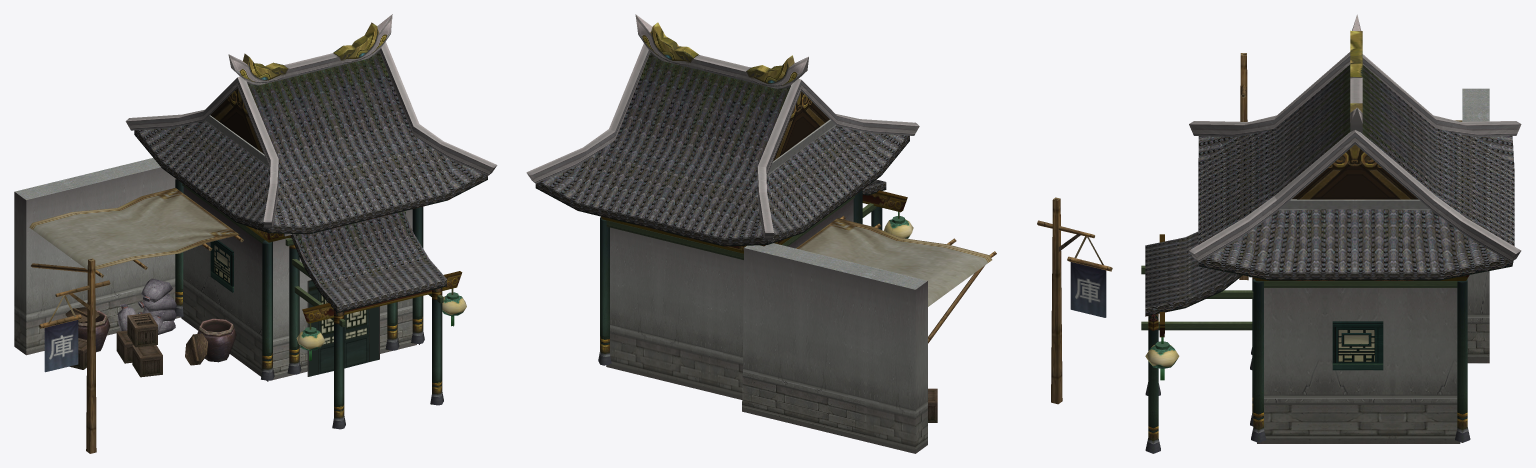
File: fb_zijiancheng_gaojikufang01.FBX
The picture shows the model from 3 angles, left to right: view 1: azimuth 30°, elevation 25°; view 2: azimuth 150°, elevation 25°; view 3: azimuth 270°, elevation 25°; orthographic projection. The views are drawn at different scales.
Parts seen in each view (by area): view 1: fb_zijiancheng_gaojikufang01a; view 2: fb_zijiancheng_gaojikufang01a; view 3: fb_zijiancheng_gaojikufang01a.
Part boxes in pixels (box(x1,y1,x2,y2)): fb_zijiancheng_gaojikufang01a: box(14, 14, 497, 453); fb_zijiancheng_gaojikufang01a: box(526, 14, 1112, 453); fb_zijiancheng_gaojikufang01a: box(1141, 14, 1521, 453).
Bounding box in the file's own units: 1067 × 741 × 690.
